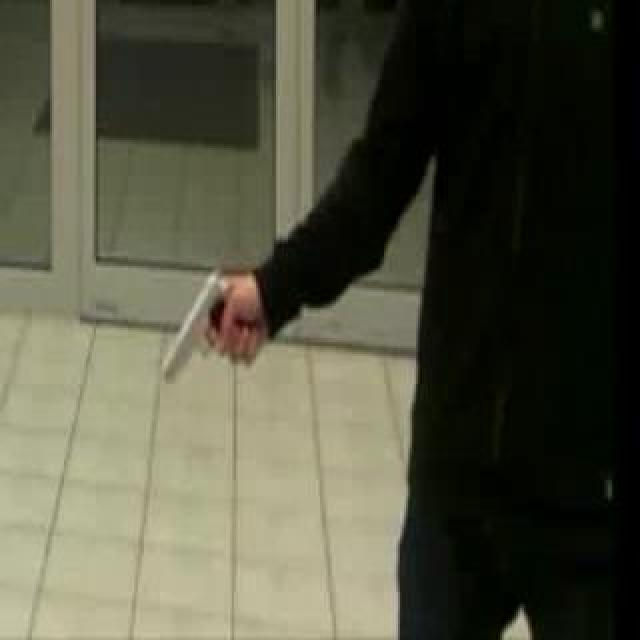Guns: (150, 267, 253, 387)
